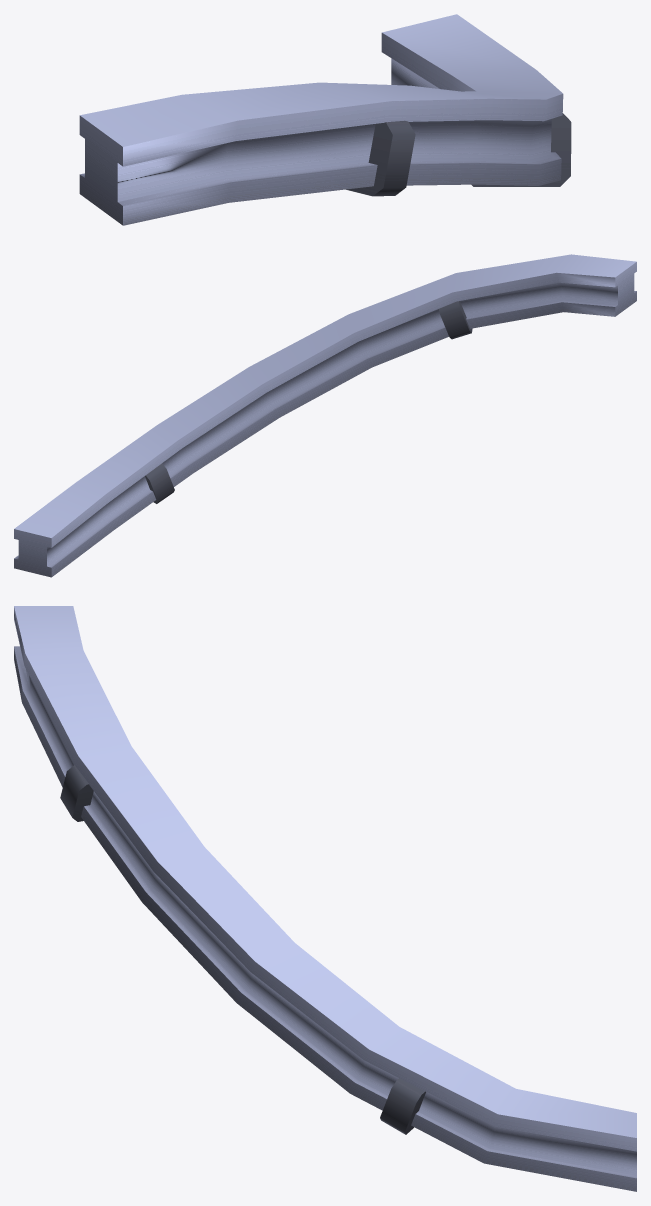
The model's file is coaster-monorail-corner-small-ramp.glb.
3 views of the same model, one above another, from view 1: azimuth 30°, elevation 25°; view 2: azimuth 150°, elevation 25°; view 3: azimuth 270°, elevation 25° (orthographic). The views are drawn at different scales.
Visible parts, largest first — view 1: coaster-monorail-corner-small-ramp; view 2: coaster-monorail-corner-small-ramp; view 3: coaster-monorail-corner-small-ramp.
Part boxes in pixels (left/top/right/bottom): coaster-monorail-corner-small-ramp: left=79, top=14, right=571, bottom=225; coaster-monorail-corner-small-ramp: left=14, top=254, right=636, bottom=577; coaster-monorail-corner-small-ramp: left=14, top=606, right=636, bottom=1191.
Size of the model in its own units: 6.3 by 3.6 by 6.3.
Materials: 1 (1 with a texture image).
